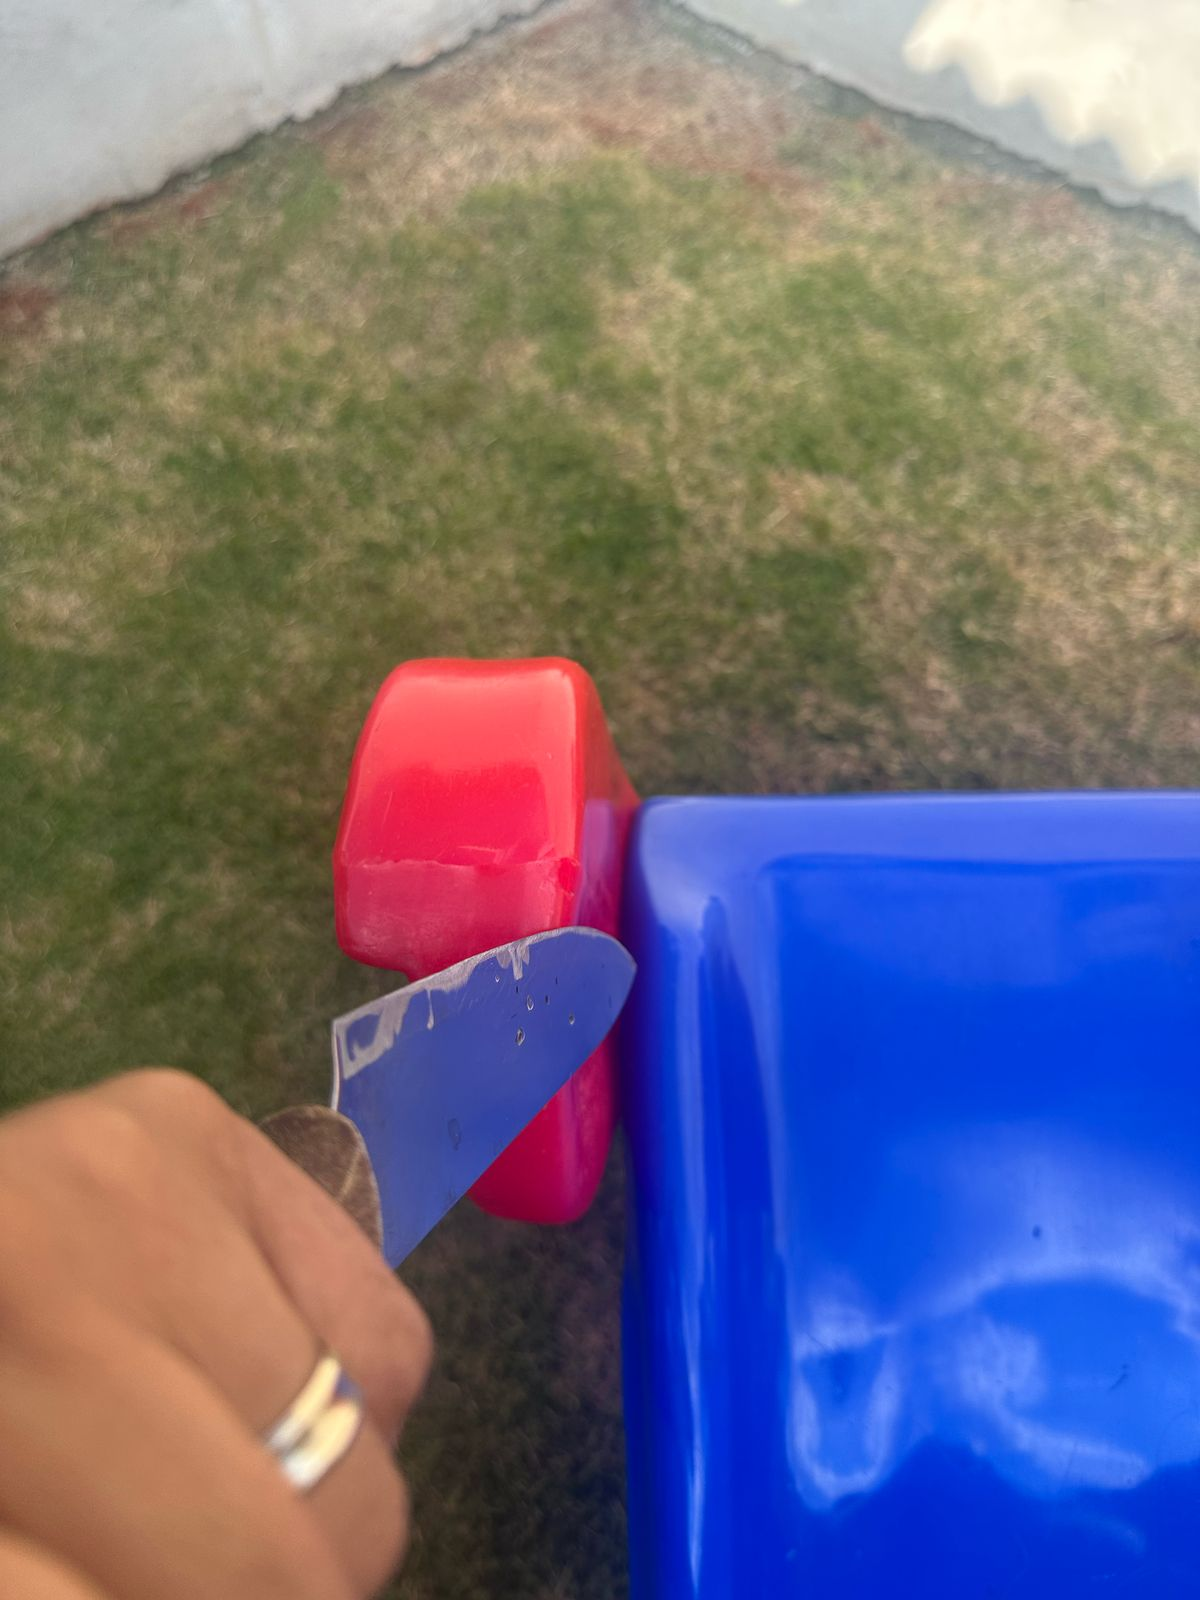faca: (310, 920, 643, 1269)
